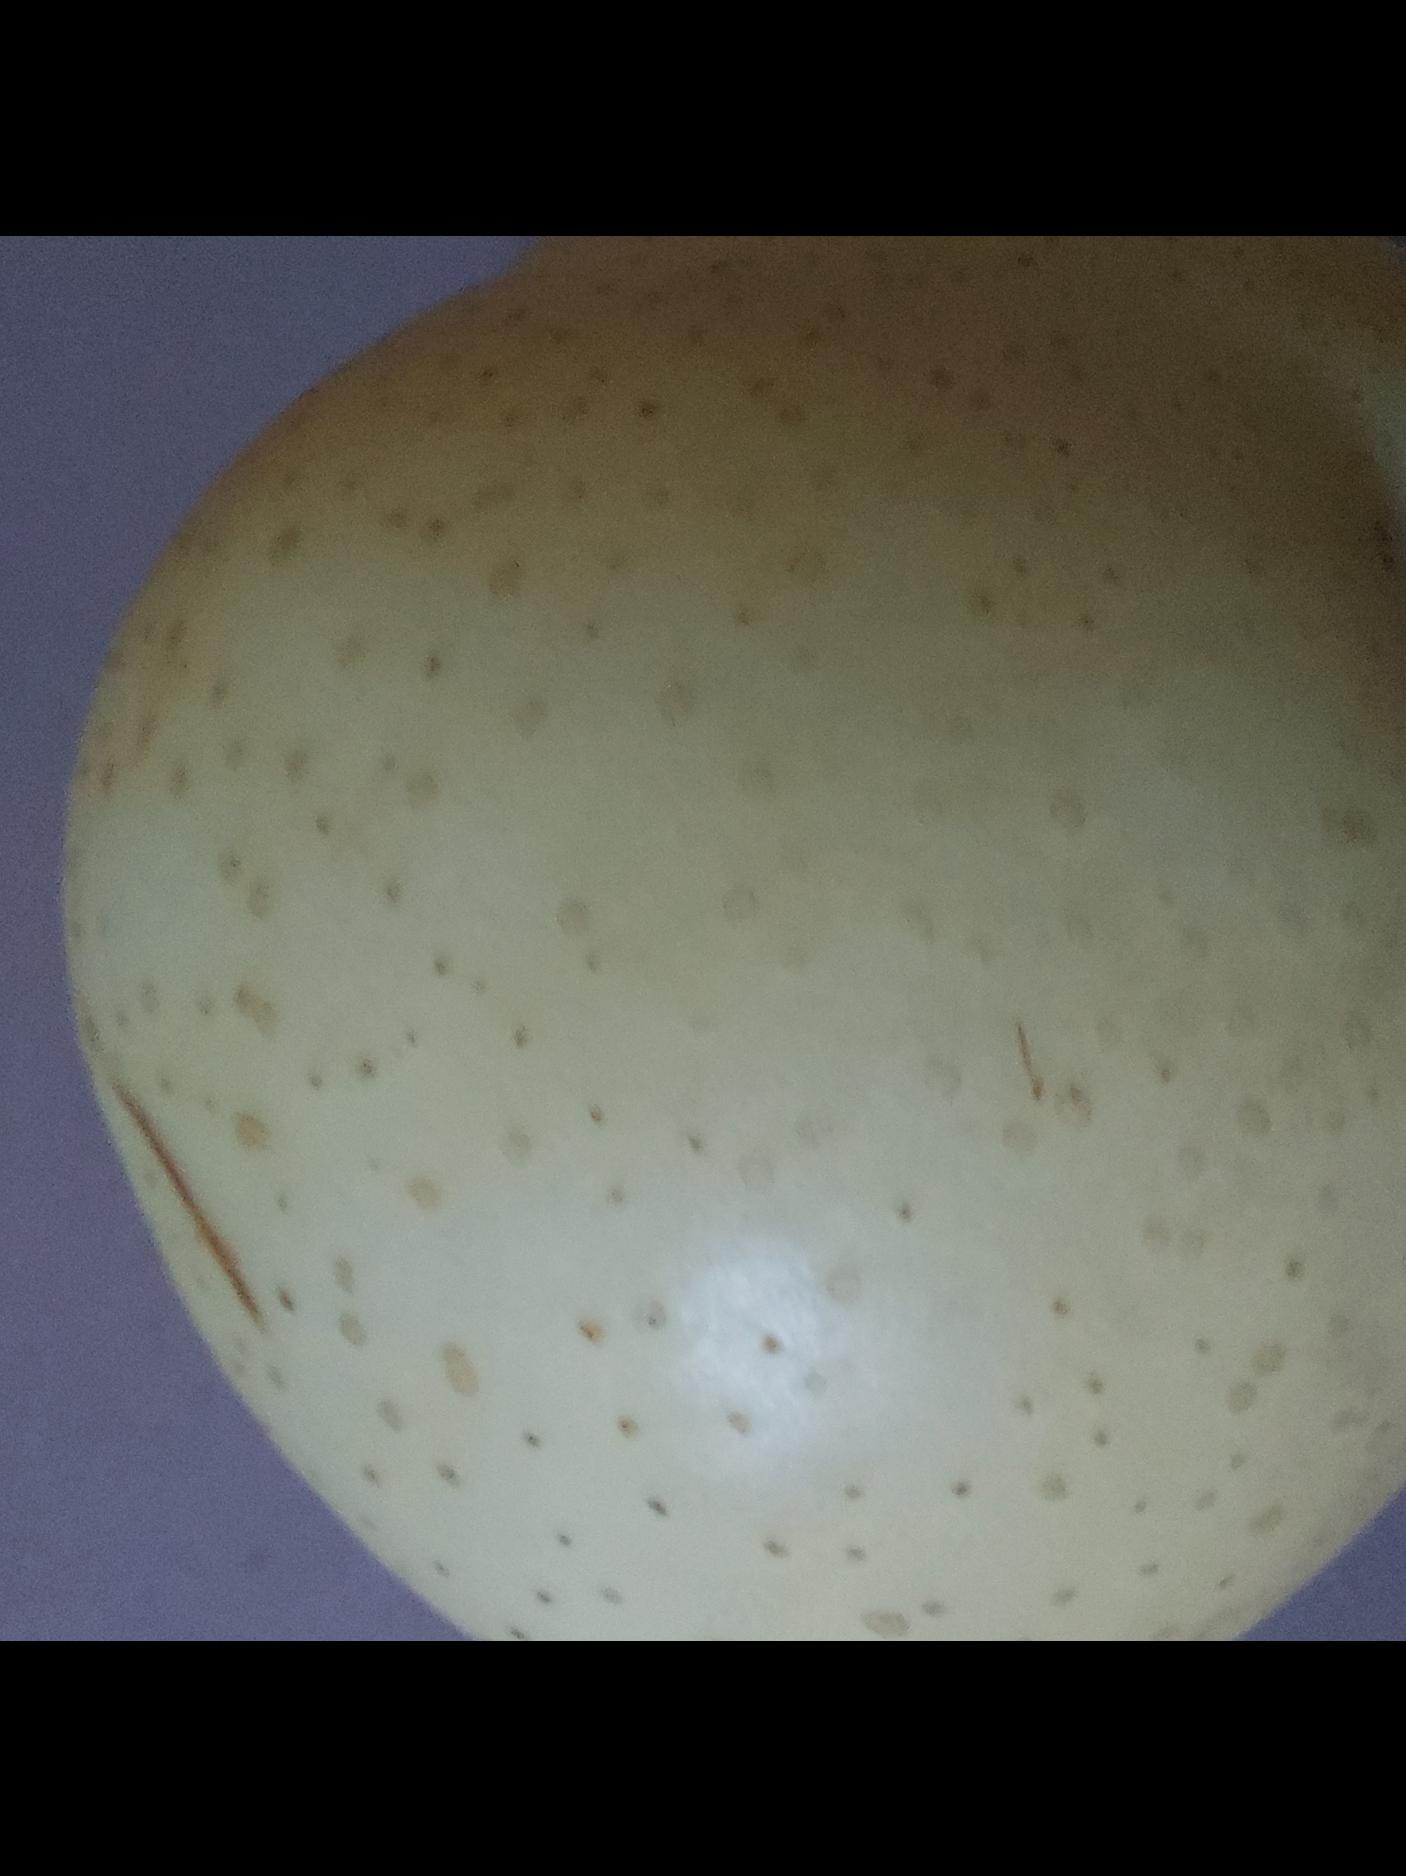Good Pear: (35, 235, 1406, 1641)
